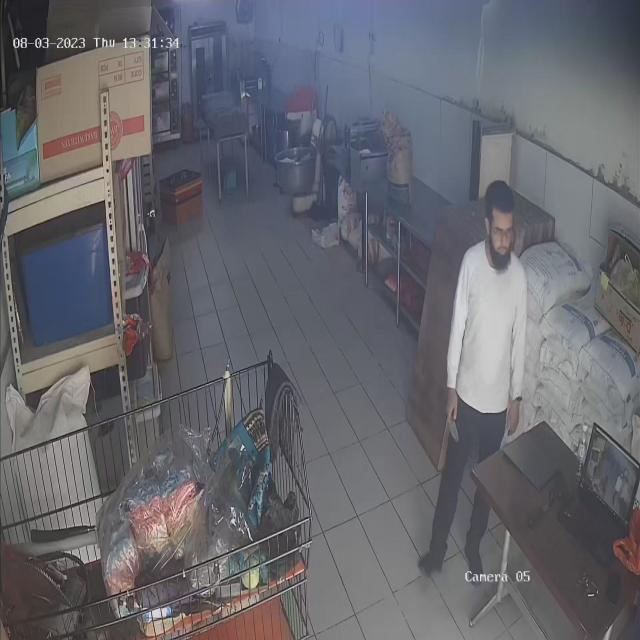Knife: (438, 401, 467, 451)
